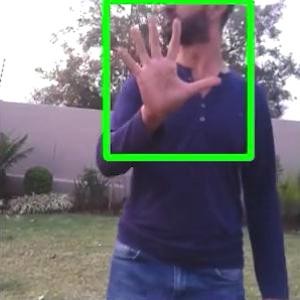follow_hand: (108, 8, 222, 113)
